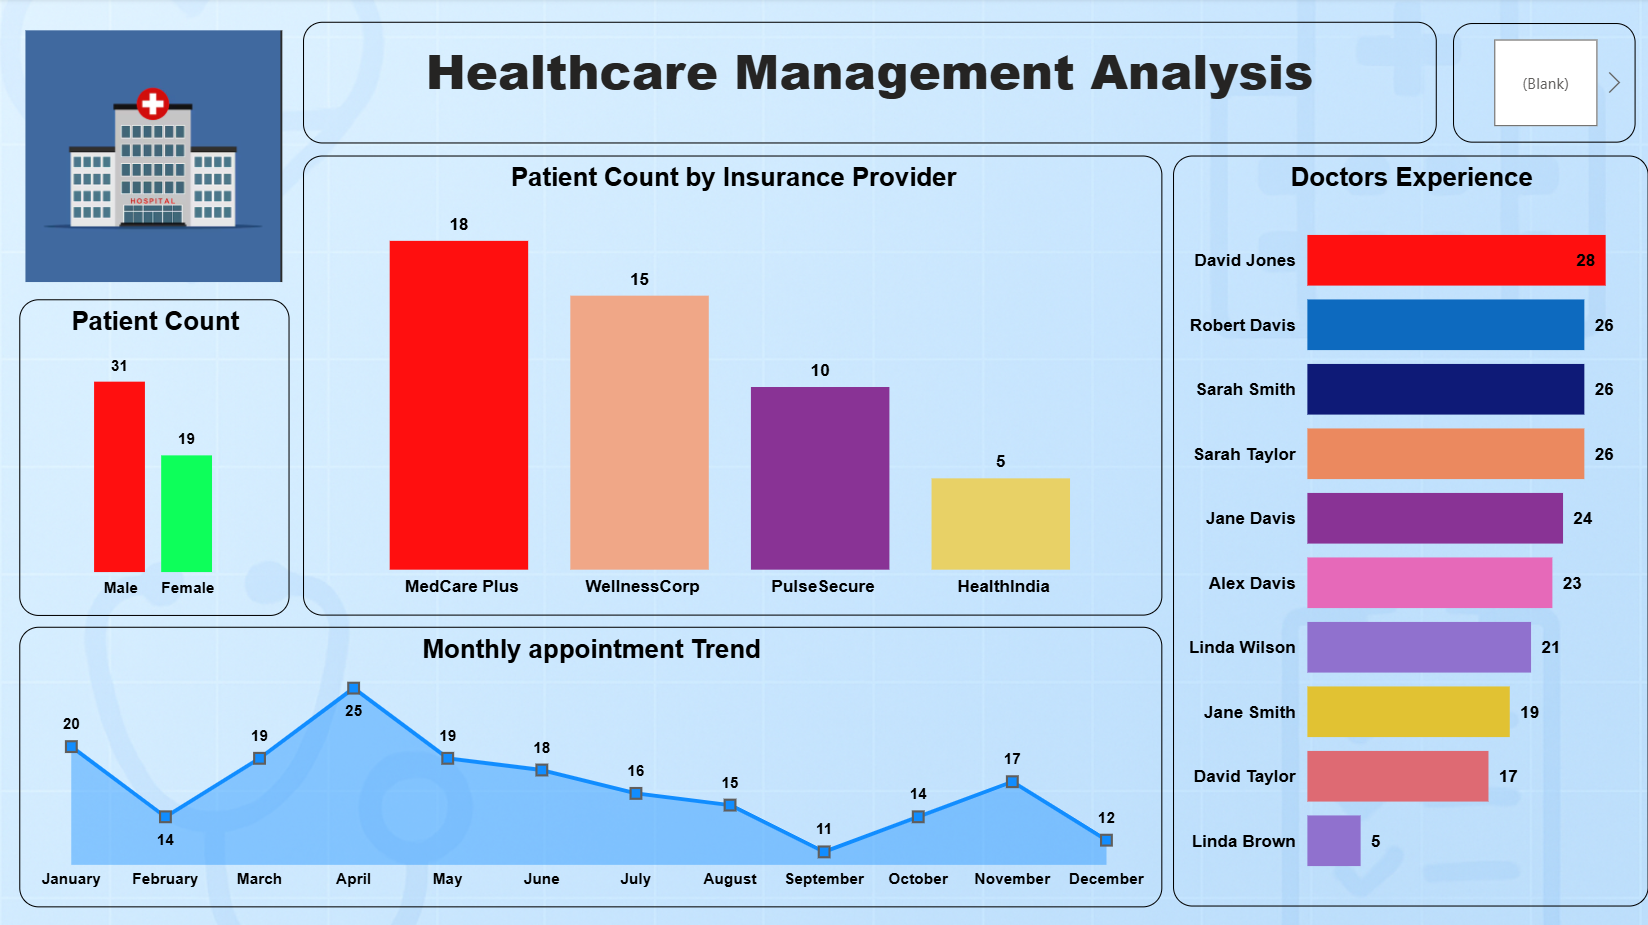

This screenshot's page, from the dashboard's own definition file:
{"tool":"powerbi","page":{"name":" Dashboard_2","canvas":[1280,720],"ordinal":1},"visuals":[{"type":"textbox","box":[236,18.6,879.1,94.2],"z":0},{"type":"image","box":[16.3,10.5,209.3,223.3],"z":1000},{"type":"slicer","fields":{"Values":["doctors.hospital_branch"]},"box":[1127.9,19.8,141.9,93],"z":2000},{"type":"columnChart","title":"Patient Count","fields":{"Category":["Patients.gender"],"Y":["CountNonNull(Patients.patient_id)"]},"box":[16.3,233.7,209.3,245.3],"z":3000},{"type":"areaChart","title":"Monthly appointment Trend","fields":{"Category":["Appointments.appointment_date.Variation.Date Hierarchy.Month"],"Y":["CountNonNull(Appointments.appointment_id)"]},"box":[16.3,487.2,886,217.4],"z":4000},{"type":"clusteredColumnChart","title":" Patient Count  by Insurance Provider","fields":{"Category":["Patients.insurance_provider"],"Y":["CountNonNull(Patients.appointment_id)"]},"box":[236,122.1,666.3,357],"z":5000},{"type":"clusteredBarChart","title":"Doctors Experience","fields":{"Category":["doctors.Full Name"],"Y":["Sum(doctors.years_experience)"]},"box":[911.6,122.1,368.6,582.6],"z":6000}]}

Visuals, with their boxes in screenshot pixels (x1, y1, x2, y2), scaled from the page's 1280x720 canvas onto the 1648x925 screenshot:
textbox: <box>304,24,1436,145</box>
image: <box>21,13,290,300</box>
slicer - doctors.hospital_branch: <box>1452,25,1635,145</box>
"Patient Count" columnChart: <box>21,300,290,615</box>
"Monthly appointment Trend" areaChart: <box>21,626,1162,905</box>
" Patient Count  by Insurance Provider" clusteredColumnChart: <box>304,157,1162,616</box>
"Doctors Experience" clusteredBarChart: <box>1174,157,1647,905</box>
